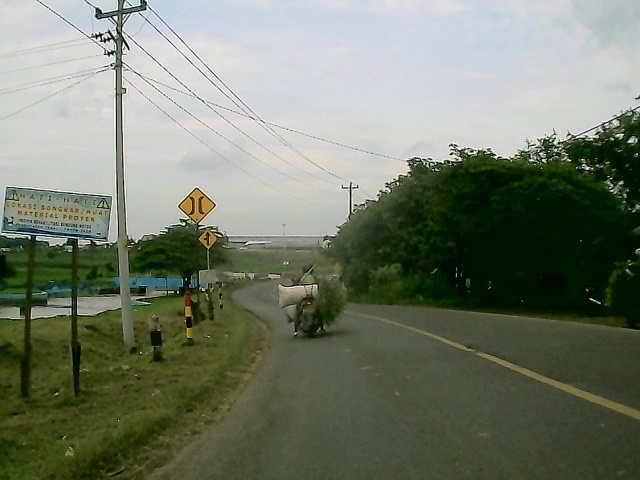Jembatan: (175, 186, 216, 225)
Simpang kiri dengan prioritas: (196, 229, 219, 249)
